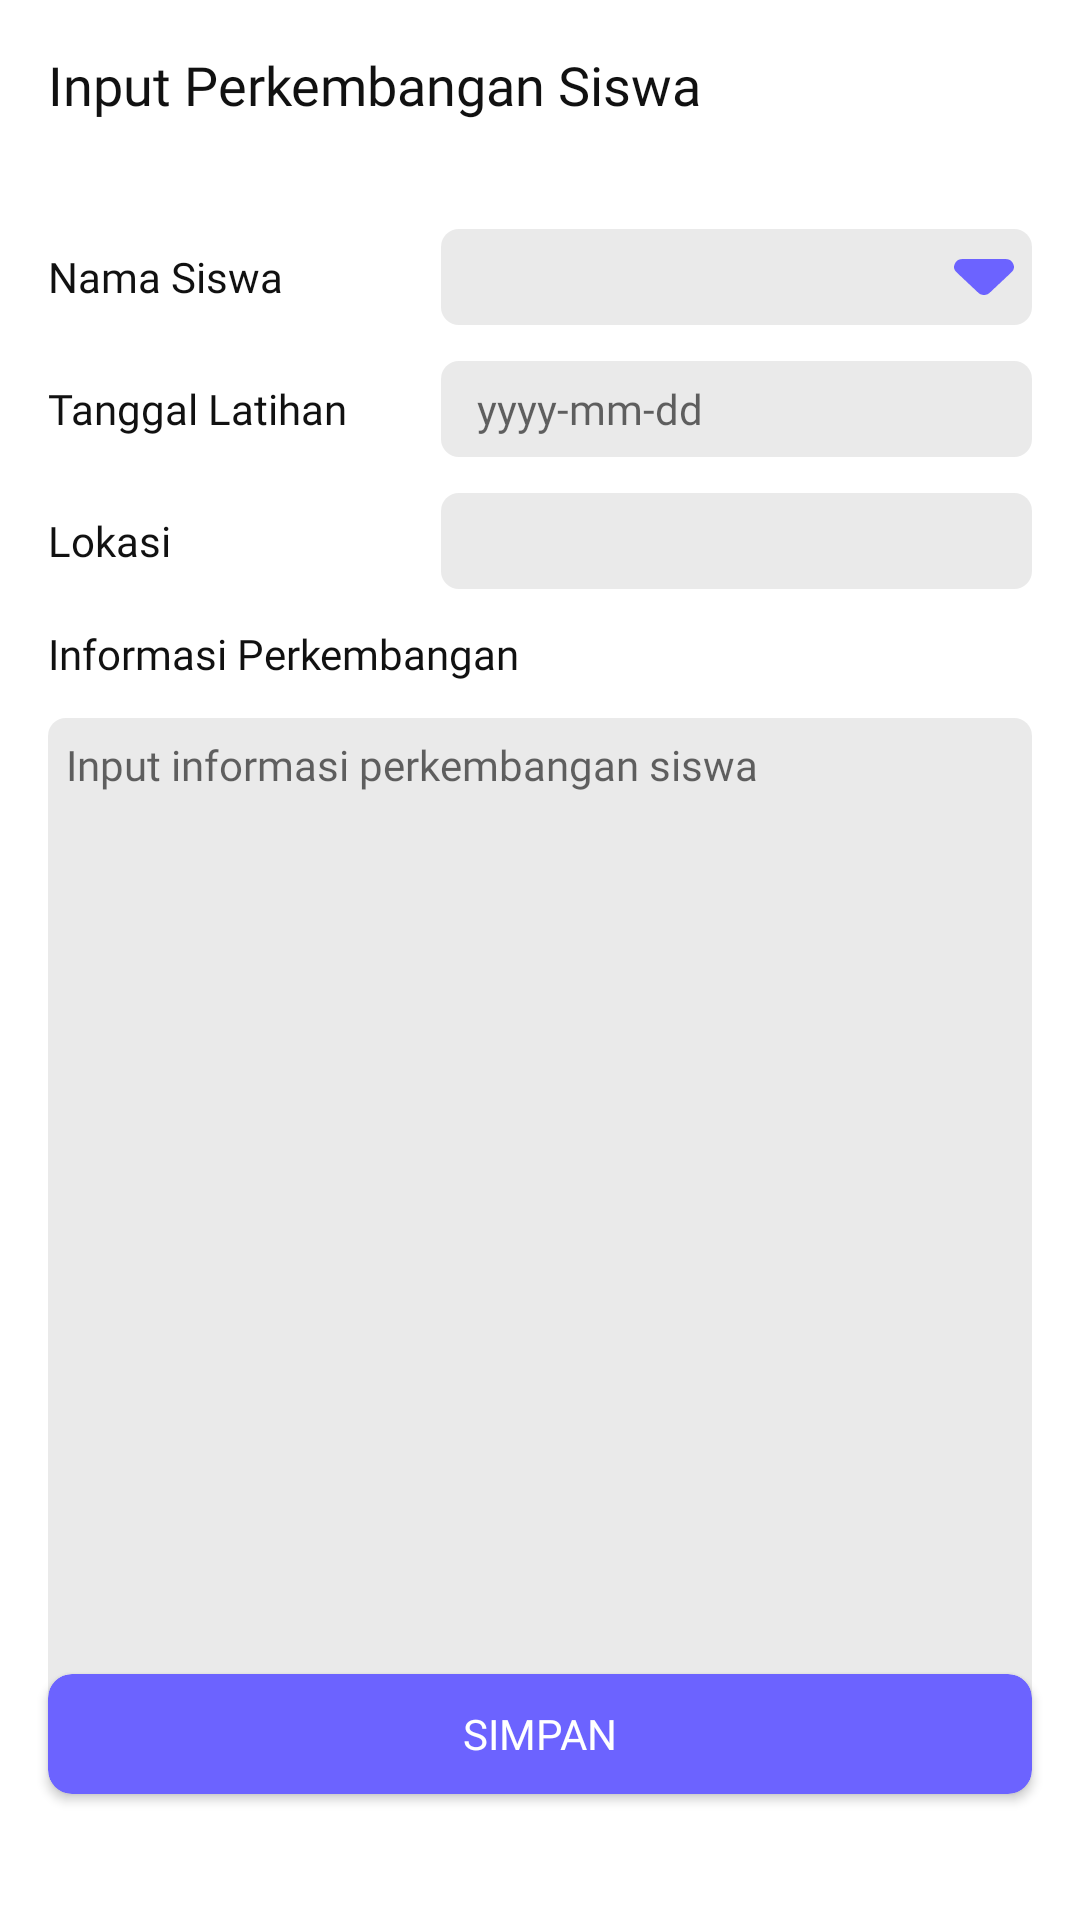

Screen size 1080 x 1920. Icon name, then its box in pixels as [x1, y1, x2, y2]:
sic down arrow: [954, 259, 1014, 295]
